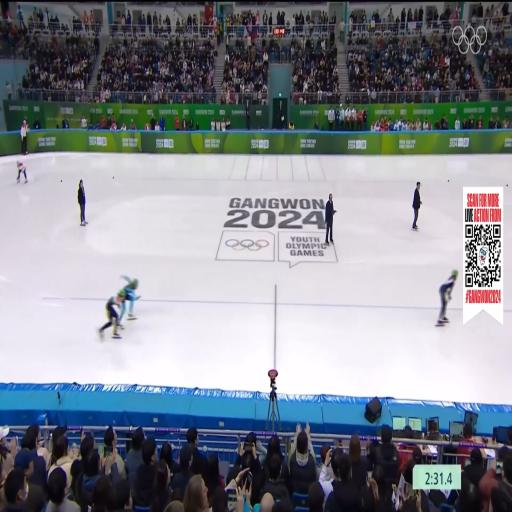Skater: (99, 289, 126, 339), (437, 270, 458, 326), (122, 276, 140, 319), (17, 161, 27, 183)
